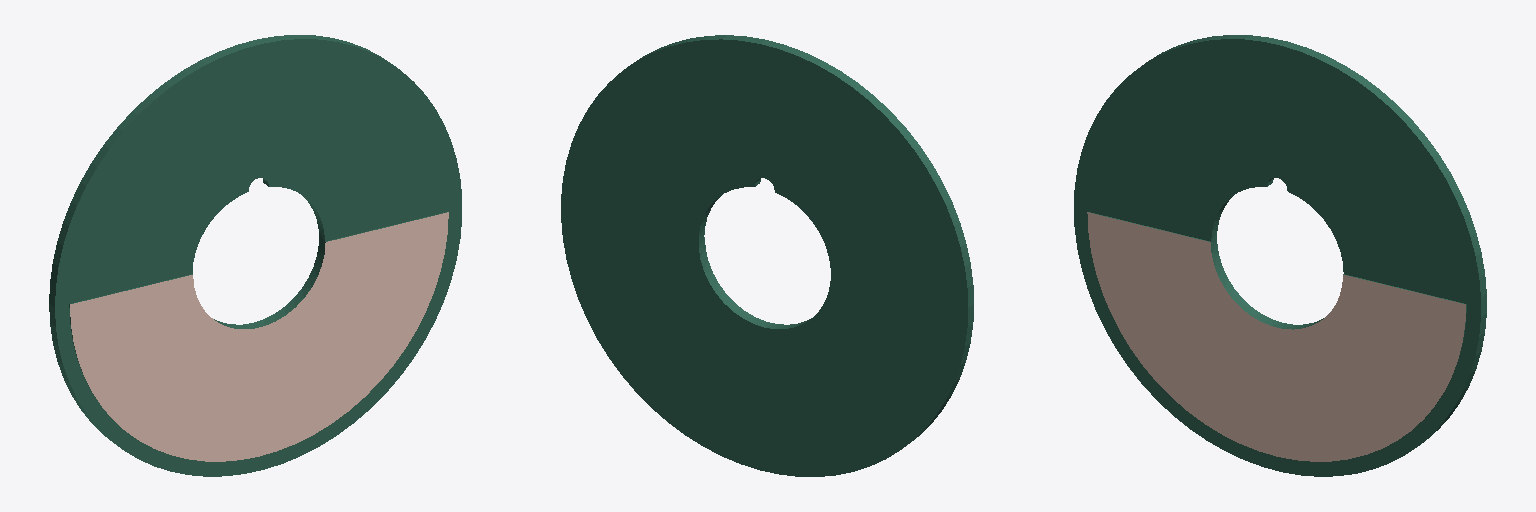
The model's file is sensorPlate.obj.
3 views of the same model, side by side, from view 1: azimuth 30°, elevation 25°; view 2: azimuth 150°, elevation 25°; view 3: azimuth 330°, elevation 25° (orthographic).
Visible parts, largest first — view 1: Body1; view 2: Body1; view 3: Body1.
Part boxes in pixels (bbox=[...]): Body1: bbox=[49, 35, 461, 476]; Body1: bbox=[561, 35, 973, 476]; Body1: bbox=[1074, 35, 1486, 476].
Size of the model in its own units: 4 by 4 by 0.11.